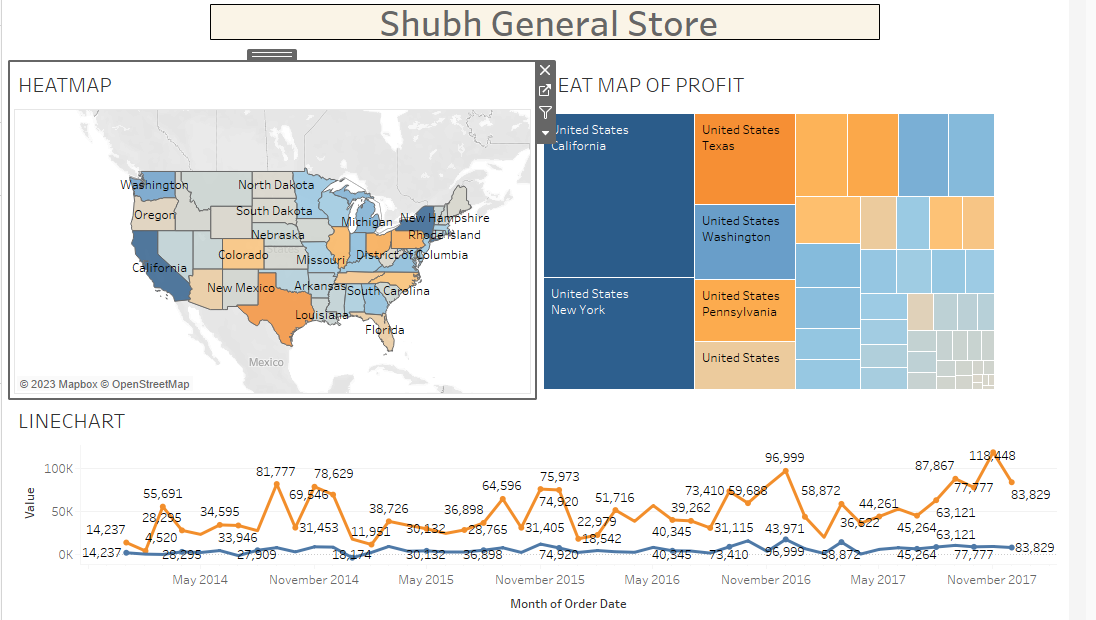

The dashboard page shown, as its layout file describes it:
{"tool":"tableau","page":{"name":"Dashboard 1 (2)","canvas":[1067,632],"ordinal":1},"visuals":[{"type":"text","box":[208,5,670,36]},{"type":"title","box":[8,8,1051,55]},{"type":"worksheet","title":"HEATMAP","mark":"Automatic","box":[8,63,525.5,336]},{"type":"worksheet","title":"TREEMAP","mark":"Automatic","box":[533.5,63,525.5,336]},{"type":"worksheet","title":"LINECHART","mark":"Automatic","cols":["Order Date"],"box":[8,399.1,1051,224.9]}]}

Visuals, with their boxes on the page's 1067x632 design canvas (x1, y1, x2, y2). These are canvas units, not pixel positions in the 1096x620 screenshot, which may show the page scaled, cropped or inside an application window:
text: BBox(208, 5, 878, 41)
title: BBox(8, 8, 1059, 63)
"HEATMAP" worksheet: BBox(8, 63, 534, 399)
"TREEMAP" worksheet: BBox(534, 63, 1059, 399)
"LINECHART" worksheet: BBox(8, 399, 1059, 624)
